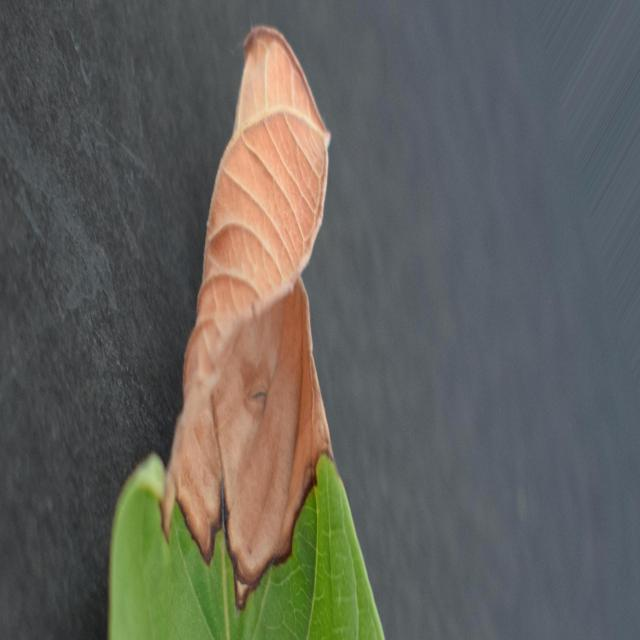Mummification: (109, 26, 382, 639)
